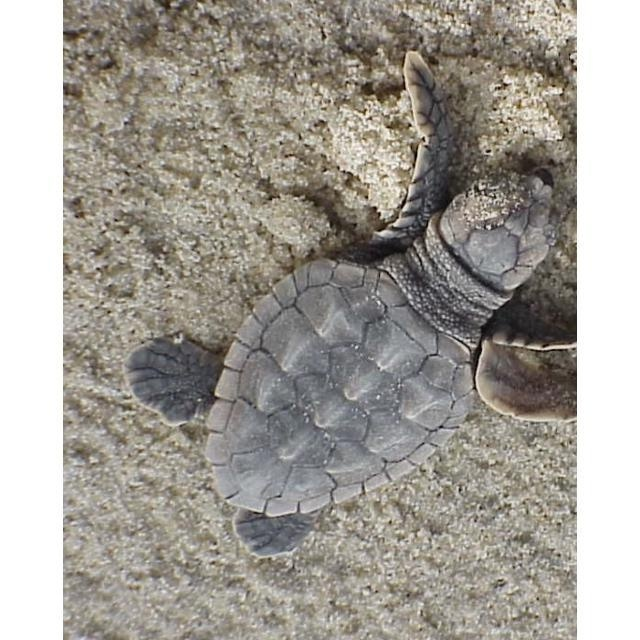turtle: (121, 46, 574, 558)
